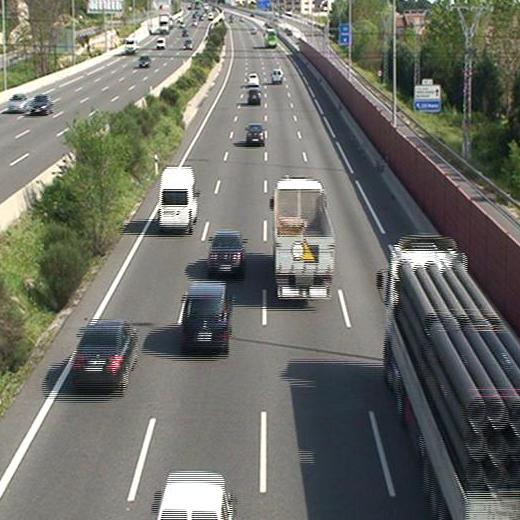bus: (265, 29, 276, 47)
car: (73, 324, 137, 387), (182, 282, 231, 351), (208, 230, 246, 276), (246, 124, 264, 145), (247, 89, 261, 106), (247, 73, 259, 85)
small-truck: (272, 180, 336, 301)
truck: (381, 236, 520, 519)
van: (159, 167, 198, 231), (271, 70, 283, 85)
